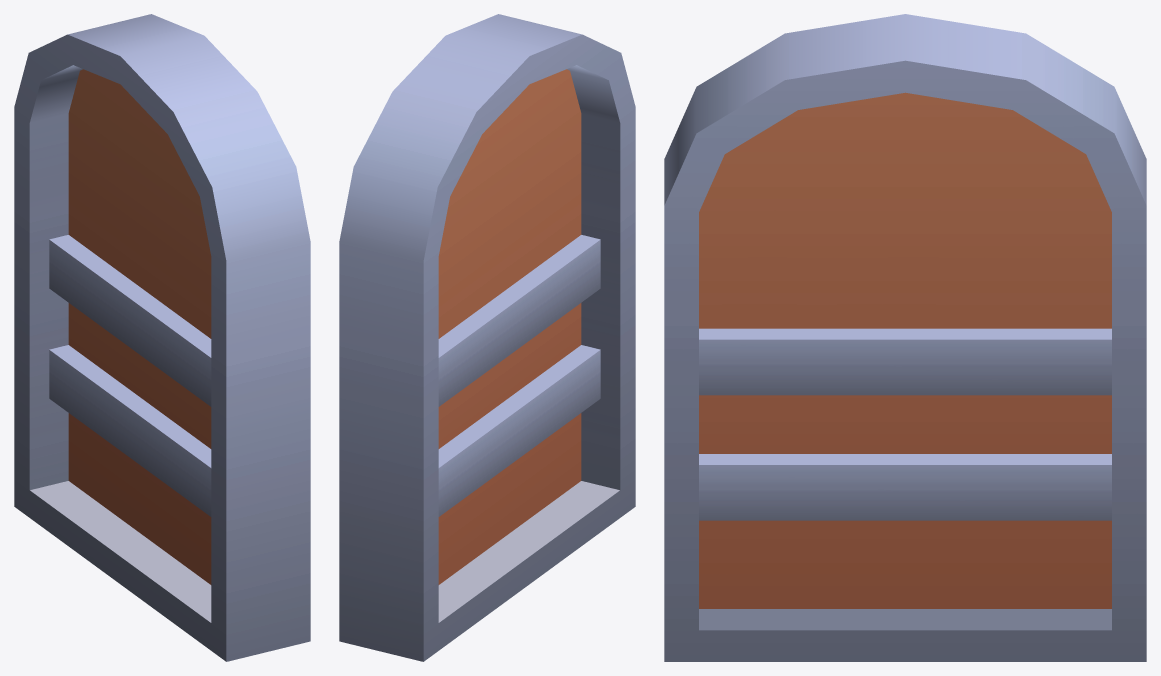
File: k-castle-gate.glb
The picture shows the model from 3 angles, left to right: view 1: azimuth 30°, elevation 25°; view 2: azimuth 150°, elevation 25°; view 3: azimuth 270°, elevation 25°; orthographic projection. The views are drawn at different scales.
Visible parts, largest first — view 1: gate; view 2: gate; view 3: gate.
Boxes of the visible parts, x1,y1,x2,y2 form: gate: (14,14,310,661); gate: (339,14,635,661); gate: (664,14,1146,661).
Size of the model in its own units: 0.1516 by 0.9103 by 0.6622.
1 material, 1 textured.
